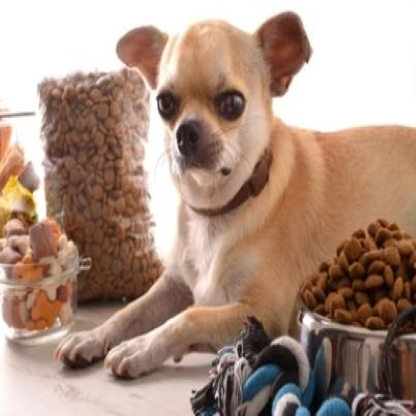chihuahua: (53, 10, 416, 382)
